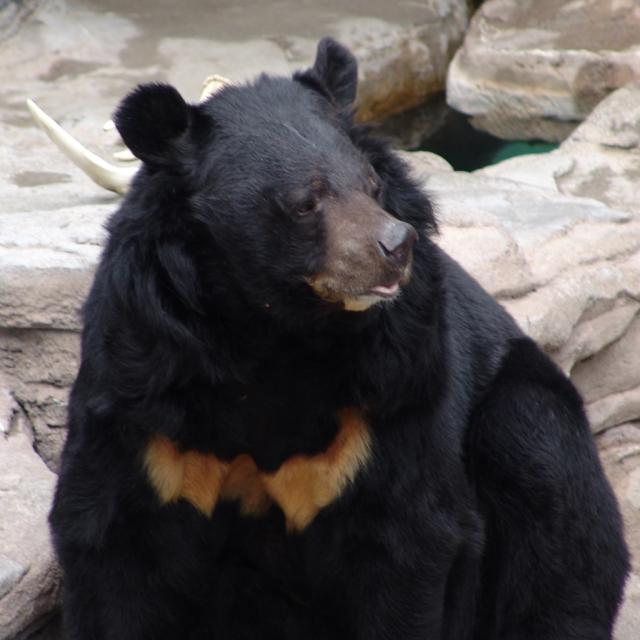Buffalo: (44, 36, 632, 640)
